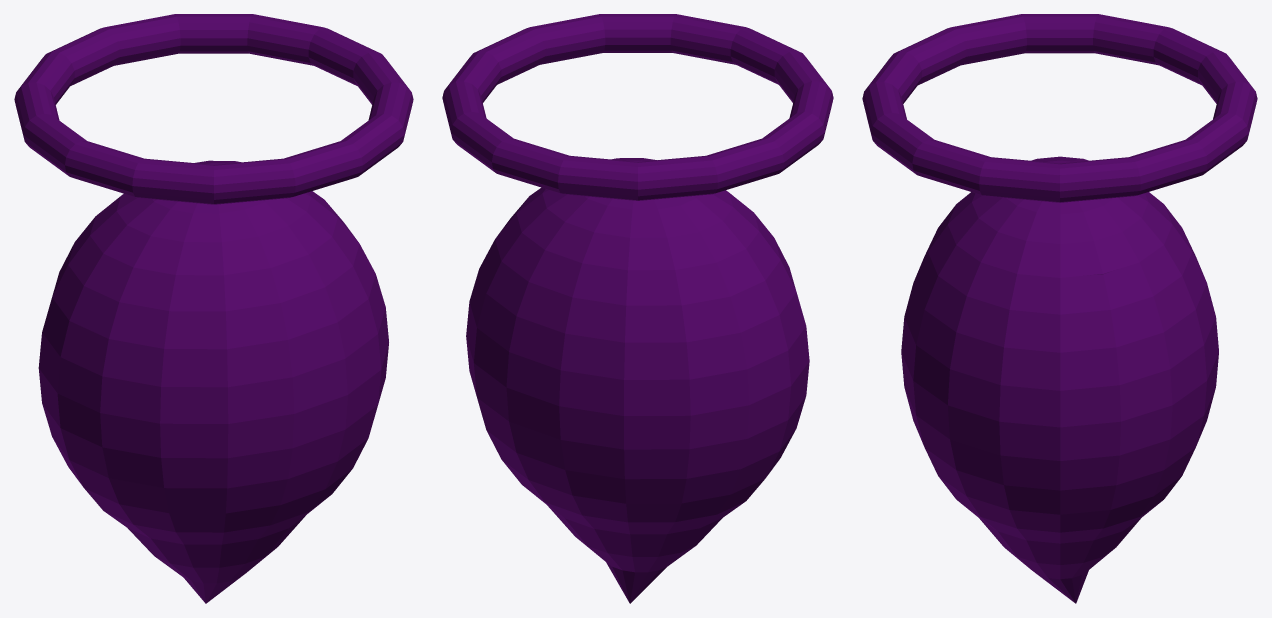
Rendered from Blackshadow.gltf.
The picture shows the model from 3 angles, left to right: view 1: azimuth 30°, elevation 25°; view 2: azimuth 150°, elevation 25°; view 3: azimuth 270°, elevation 25°; orthographic projection. The views are drawn at different scales.
Visible parts, largest first — view 1: Sphere; view 2: Sphere; view 3: Sphere.
Part boxes in pixels (x1,y1,x2,y2): Sphere: [14, 14, 413, 603]; Sphere: [442, 14, 833, 603]; Sphere: [862, 14, 1257, 603].
Bounding box in the file's own units: 0.9891 × 1.43 × 0.9945.
